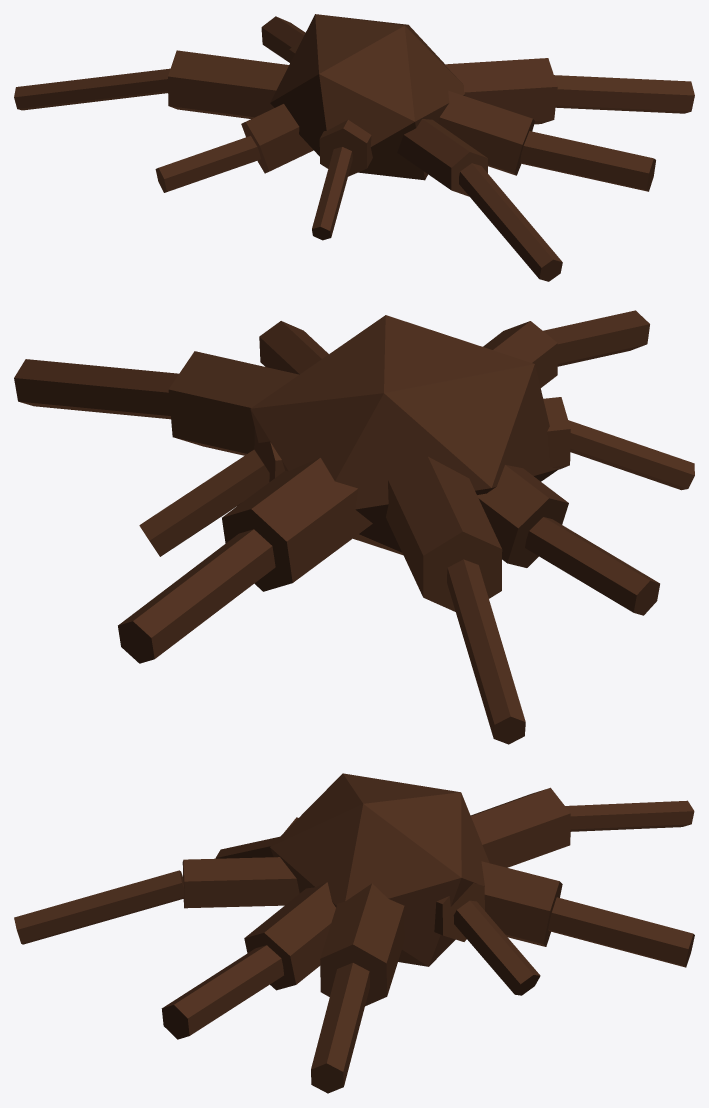
Rendered from root_cluster_a.glb.
The picture shows the model from 3 angles, top to bottom: view 1: azimuth 30°, elevation 25°; view 2: azimuth 150°, elevation 25°; view 3: azimuth 270°, elevation 25°; orthographic projection. The views are drawn at different scales.
Visible parts, largest first — view 1: Root_Knot, Root_4_A, Root_1_A, Root_8_B, Root_1_B, Root_8_A, Root_7_B, Root_4_B, Root_7_A, Root_5_B, Root_5_A, Root_6_B (+2 smaller); view 2: Root_Knot, Root_4_A, Root_3_A, Root_3_B, Root_1_A, Root_1_B, Root_4_B, Root_5_B, Root_2_B, Root_5_A, Root_6_B, Root_7_B (+4 smaller); view 3: Root_Knot, Root_1_A, Root_4_A, Root_7_A, Root_3_B, Root_8_A, Root_7_B, Root_8_B, Root_3_A, Root_1_B, Root_2_B, Root_4_B (+2 smaller).
Part boxes in pixels (box(x1,y1,x2,y2)): Root_Knot: box(270, 14, 465, 180); Root_4_A: box(168, 50, 288, 118); Root_1_A: box(444, 58, 557, 124); Root_8_B: box(520, 131, 655, 191); Root_1_B: box(554, 75, 694, 113); Root_8_A: box(438, 90, 534, 175); Root_7_B: box(459, 163, 562, 281); Root_4_B: box(14, 68, 170, 110); Root_7_A: box(397, 119, 487, 196); Root_5_B: box(155, 136, 260, 192); Root_5_A: box(241, 104, 313, 173); Root_6_B: box(312, 147, 352, 240); Root_Knot: box(250, 315, 559, 554); Root_4_A: box(386, 456, 502, 611); Root_3_A: box(222, 457, 372, 591); Root_3_B: box(118, 529, 275, 663); Root_1_A: box(168, 351, 298, 455); Root_1_B: box(14, 359, 178, 419); Root_4_B: box(447, 559, 525, 744); Root_5_B: box(525, 517, 659, 615); Root_2_B: box(139, 449, 269, 556); Root_5_A: box(477, 465, 568, 567); Root_6_B: box(568, 420, 694, 490); Root_7_B: box(543, 310, 649, 366); Root_Knot: box(270, 773, 489, 966); Root_1_A: box(320, 883, 404, 1006); Root_4_A: box(470, 787, 570, 867); Root_7_A: box(182, 857, 299, 908); Root_3_B: box(548, 897, 694, 967); Root_8_A: box(244, 882, 335, 990); Root_7_B: box(14, 870, 184, 944); Root_8_B: box(161, 945, 283, 1039); Root_3_A: box(481, 861, 562, 946); Root_1_B: box(311, 963, 369, 1093); Root_2_B: box(453, 900, 540, 995); Root_4_B: box(565, 800, 694, 831).
Bounding box in the file's own units: 2.57 × 0.6981 × 2.73.
